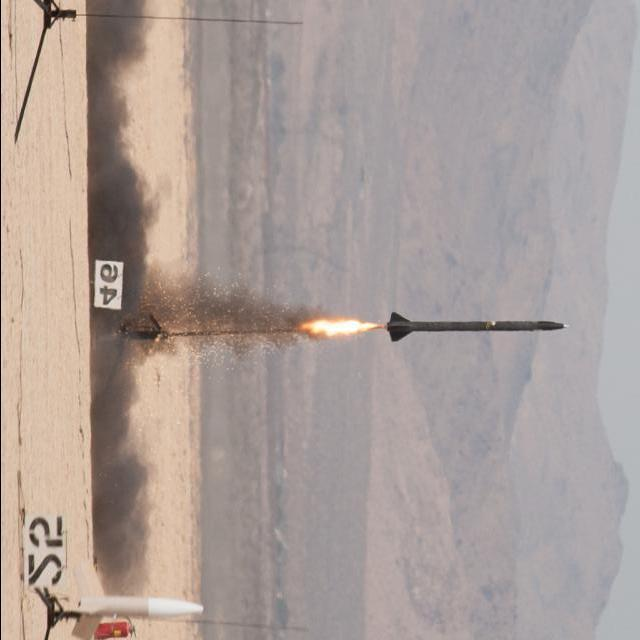missile: (382, 310, 568, 351)
